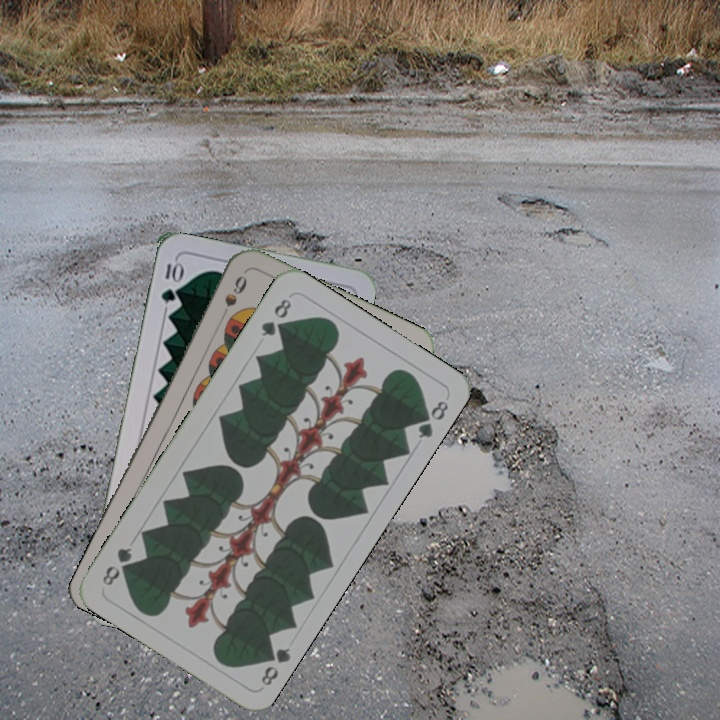G10: (157, 257, 184, 305)
G8: (257, 642, 293, 689), (257, 294, 294, 339)
S9: (220, 271, 250, 309)
